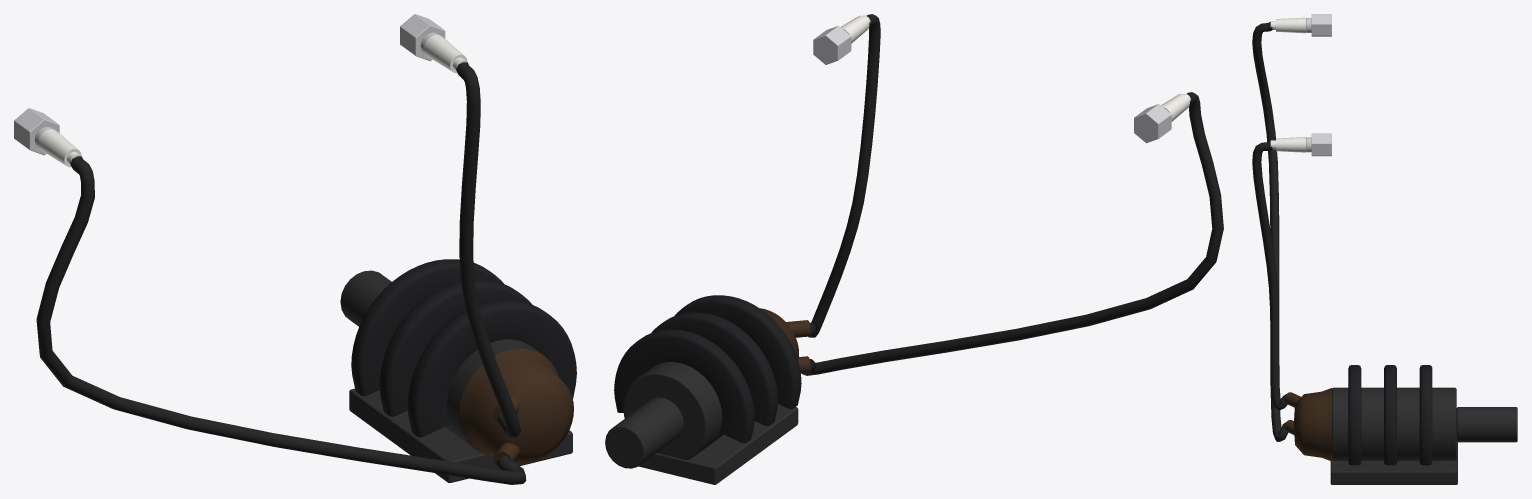
Rendered from bike_vintage_vtwin__spark_plug.glb.
3 views of the same model, side by side, from view 1: azimuth 30°, elevation 25°; view 2: azimuth 150°, elevation 25°; view 3: azimuth 270°, elevation 25° (orthographic). The views are drawn at different scales.
Visible parts, largest first — view 1: electrical__magneto__magnets, wiring__ht_leads, electrical__magneto__distributor, electrical__magneto, electrical__spark_plugs, electrical__spark_plugs__insulators; view 2: electrical__magneto__magnets, electrical__magneto, wiring__ht_leads, electrical__spark_plugs, electrical__magneto__distributor, electrical__spark_plugs__insulators; view 3: electrical__magneto, wiring__ht_leads, electrical__magneto__magnets, electrical__magneto__distributor, electrical__spark_plugs, electrical__spark_plugs__insulators.
Part boxes in pixels (x1=…): electrical__magneto__magnets: x1=351, y1=259, x2=576, y2=437; wiring__ht_leads: x1=36, y1=62, x2=526, y2=484; electrical__magneto__distributor: x1=460, y1=349, x2=573, y2=466; electrical__magneto: x1=340, y1=270, x2=572, y2=482; electrical__spark_plugs: x1=14, y1=14, x2=445, y2=155; electrical__spark_plugs__insulators: x1=38, y1=35, x2=467, y2=167; electrical__magneto__magnets: x1=614, y1=295, x2=801, y2=443; electrical__magneto: x1=605, y1=362, x2=798, y2=484; wiring__ht_leads: x1=802, y1=14, x2=1223, y2=375; electrical__spark_plugs: x1=813, y1=25, x2=1171, y2=143; electrical__magneto__distributor: x1=760, y1=308, x2=810, y2=373; electrical__spark_plugs__insulators: x1=841, y1=15, x2=1190, y2=121; electrical__magneto: x1=1330, y1=387, x2=1517, y2=484; wiring__ht_leads: x1=1252, y1=22, x2=1288, y2=441; electrical__magneto__magnets: x1=1348, y1=365, x2=1432, y2=465; electrical__magneto__distributor: x1=1284, y1=388, x2=1331, y2=460; electrical__spark_plugs: x1=1306, y1=14, x2=1331, y2=156; electrical__spark_plugs__insulators: x1=1270, y1=17, x2=1306, y2=152.
Size of the model in its own units: 34.83 by 26.28 by 20.86.
